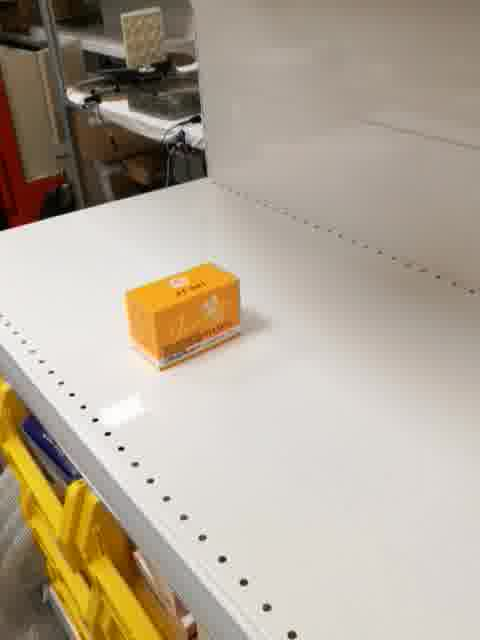jasminetea: (122, 259, 242, 372)
